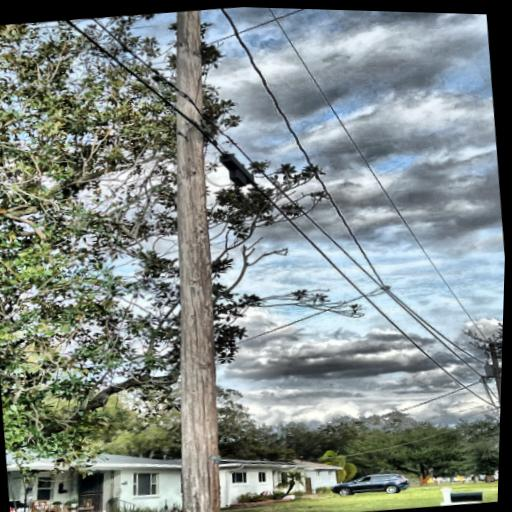pole: (106, 7, 265, 512)
